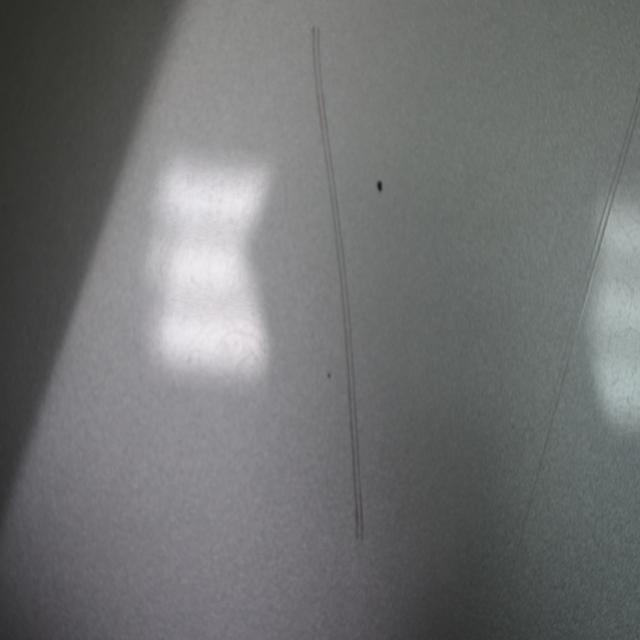dirt: (376, 176, 384, 192), (326, 369, 332, 382)
scratch: (514, 89, 640, 576), (310, 20, 368, 560)
